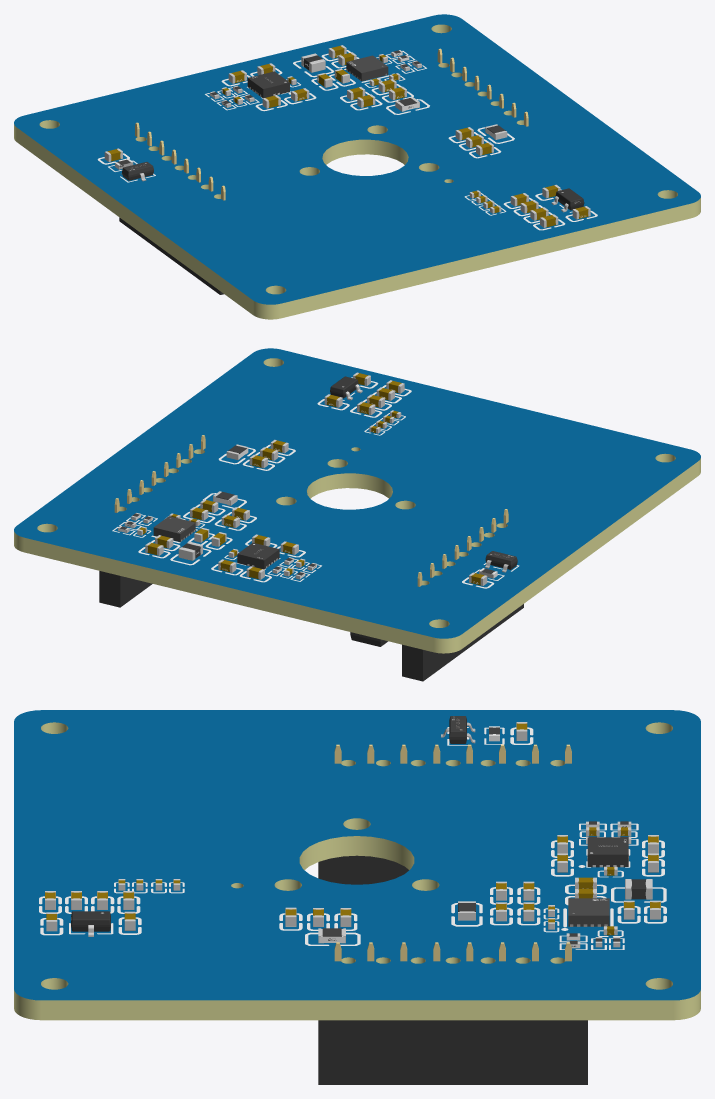
The model's file is top.glb.
3 renders of one model, top to bottom at view 1: azimuth 30°, elevation 25°; view 2: azimuth 150°, elevation 25°; view 3: azimuth 270°, elevation 25°, orthographic. The views are drawn at different scales.
Parts seen in each view (by area): view 1: pcb, top-z1, top-z0, top-z3; view 2: pcb, top-z1, top-z0, top-z3; view 3: pcb, top-z1, top-z0, top-z3.
Part boxes in pixels (<box>): pcb: <box>14,14,700,319</box>; top-z1: <box>293,45,528,150</box>; top-z0: <box>97,63,309,294</box>; top-z3: <box>464,142,597,230</box>; pcb: <box>14,348,700,653</box>; top-z1: <box>99,435,285,607</box>; top-z0: <box>211,509,523,681</box>; top-z3: <box>265,372,411,455</box>; pcb: <box>14,710,700,1020</box>; top-z1: <box>305,868,666,1084</box>; top-z0: <box>318,716,664,884</box>; top-z3: <box>39,879,302,936</box>.
Size of the model in its own units: 49.97 by 10.84 by 49.97.
